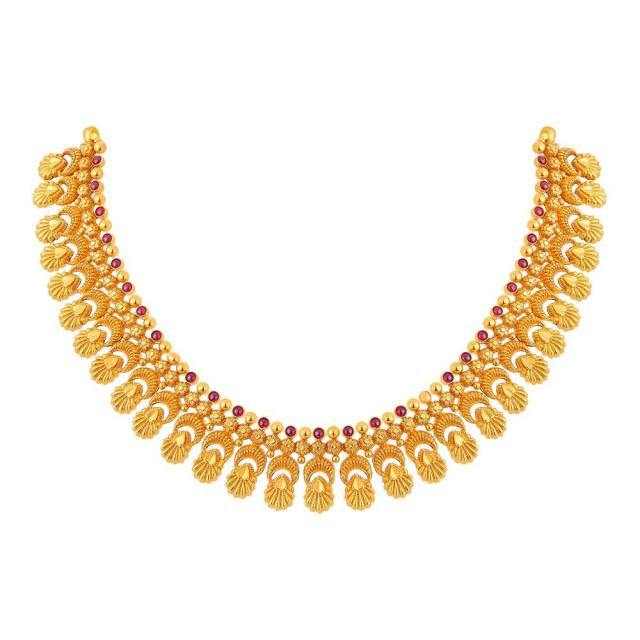missing gem: (420, 391, 431, 403), (168, 352, 179, 363)
